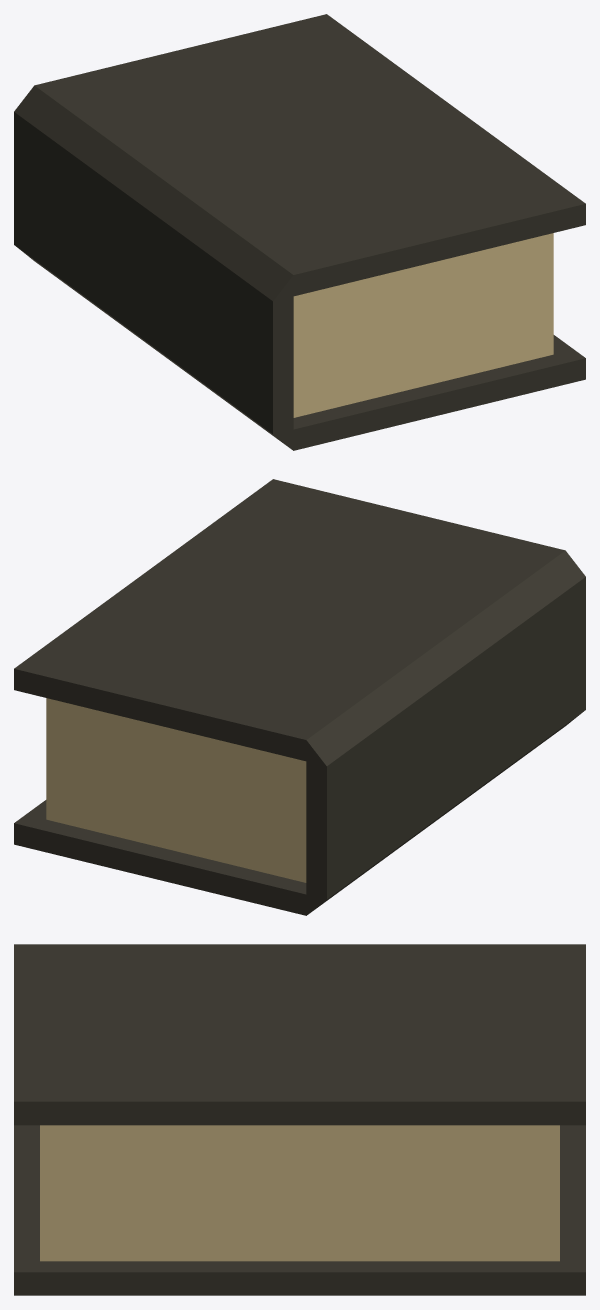
Rendered from Book8.fbx.
The picture shows the model from 3 angles, top to bottom: view 1: azimuth 30°, elevation 25°; view 2: azimuth 150°, elevation 25°; view 3: azimuth 270°, elevation 25°; orthographic projection. The views are drawn at different scales.
Visible parts, largest first — view 1: Cube; view 2: Cube; view 3: Cube.
Boxes of the visible parts, x1,y1,x2,y2 form: Cube: (14, 14, 585, 450); Cube: (14, 479, 585, 915); Cube: (14, 944, 585, 1295).
Bounding box in the file's own units: 0.345 × 0.1853 × 0.495.
